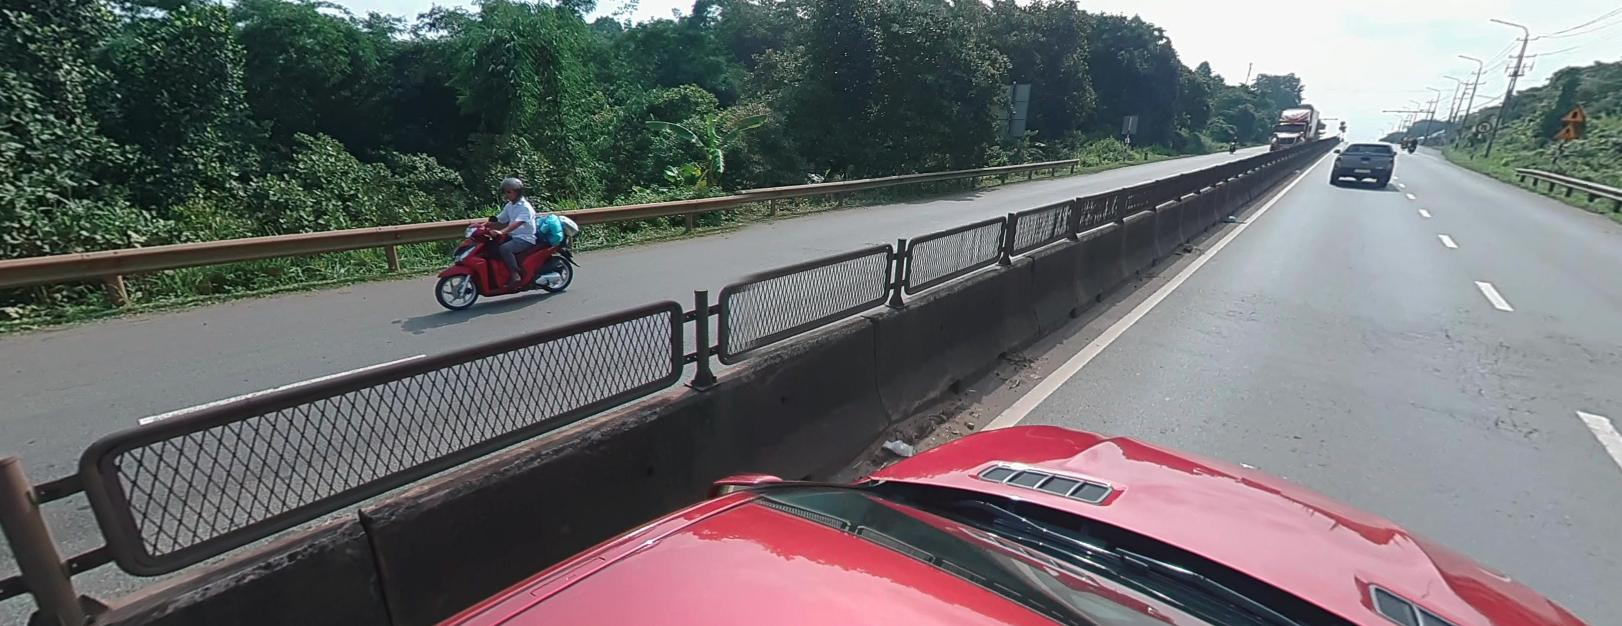Cam re: (1476, 120, 1490, 131)
Nguy hiem: (1560, 105, 1583, 121), (1554, 122, 1576, 137)
